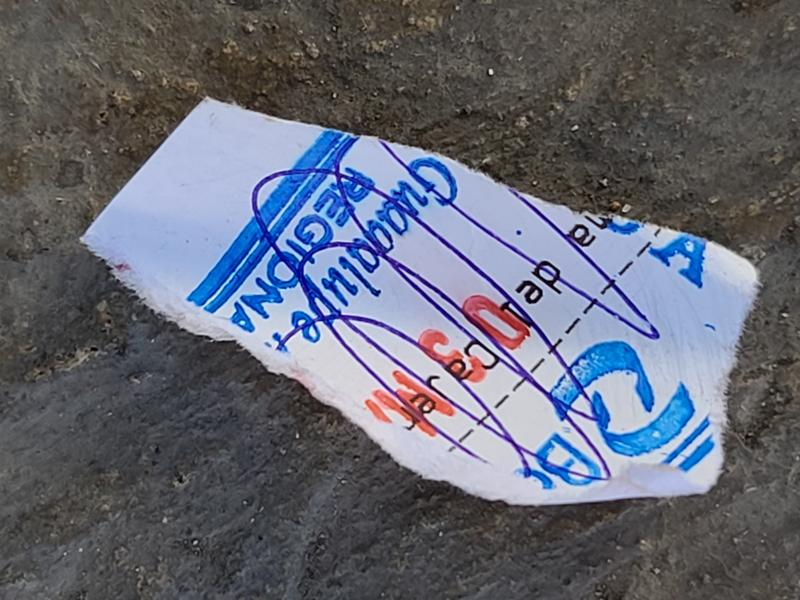papel: (80, 98, 759, 509)
